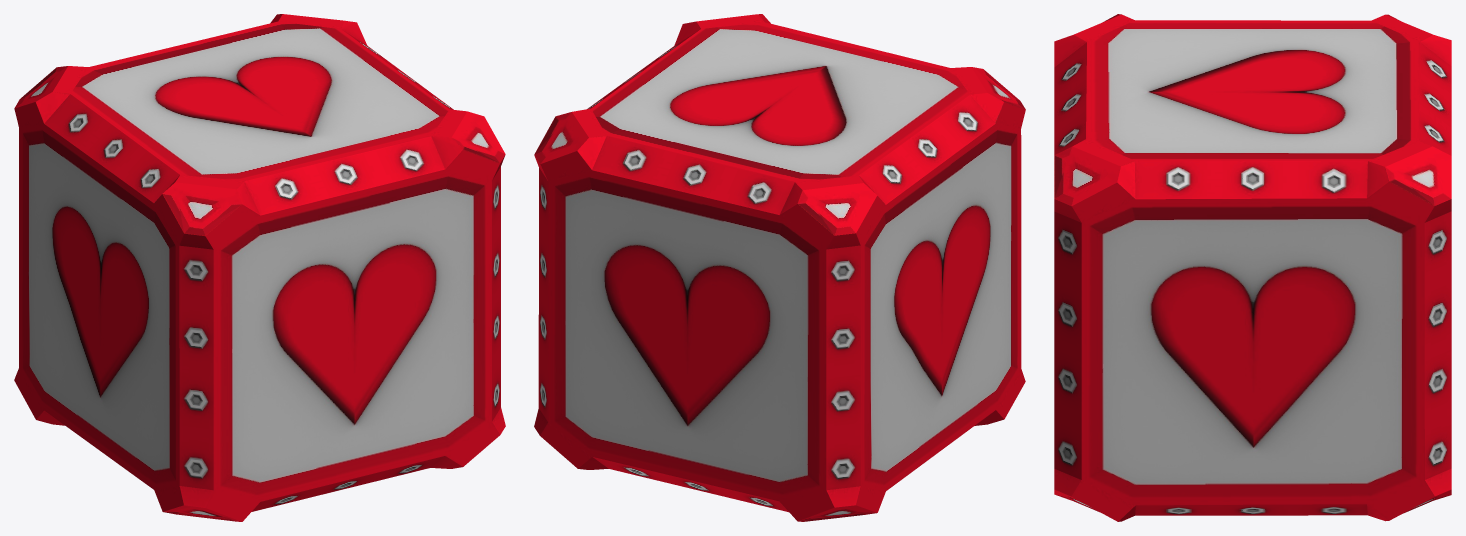
File: medkit.fbx
The picture shows the model from 3 angles, left to right: view 1: azimuth 30°, elevation 25°; view 2: azimuth 150°, elevation 25°; view 3: azimuth 270°, elevation 25°; orthographic projection. The views are drawn at different scales.
Visible parts, largest first — view 1: Heart; view 2: Heart; view 3: Heart.
Part boxes in pixels (bbox=[...]): Heart: bbox=[14, 14, 505, 521]; Heart: bbox=[534, 14, 1025, 521]; Heart: bbox=[1054, 14, 1451, 521].
Bounding box in the file's own units: 4.07 × 4.01 × 4.07.
